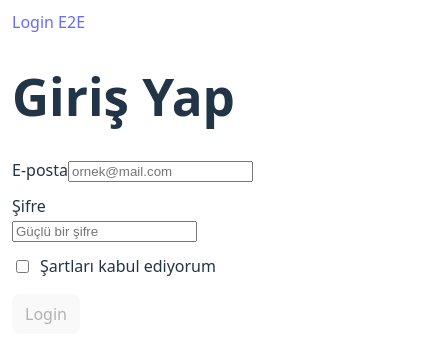
Test case: Login Formu › Başarılı form doldurulunca submit ve success
Type "test@example.com" into the field with test id "email-input" at {"x": 161, "y": 173}, box [68,162,253,183]
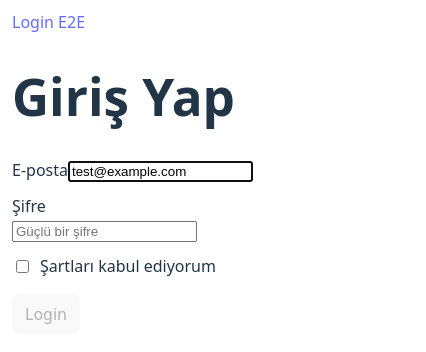
Type "Aa123456!" into the password field with test id "password-input" at {"x": 105, "y": 233}, box [12,222,197,243]
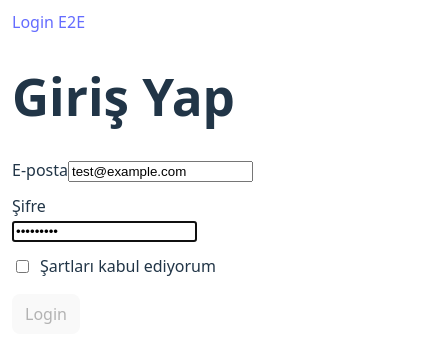
Check the checkbox with test id "terms-checkbox" at {"x": 23, "y": 267}, box [16,260,29,273]
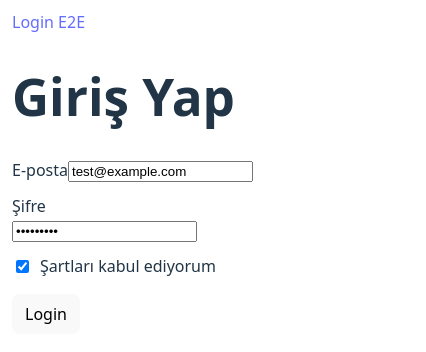
Check: the element with test id "submit-btn" is enabled
Click the button with test id "submit-btn" at {"x": 46, "y": 315}, box [12,295,80,335]
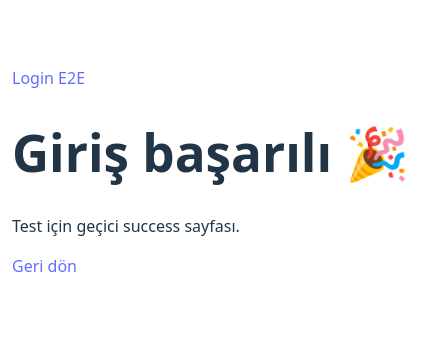
Check: the heading with test id "success-title" shows "Giriş başarılı", box [12,117,409,187]
